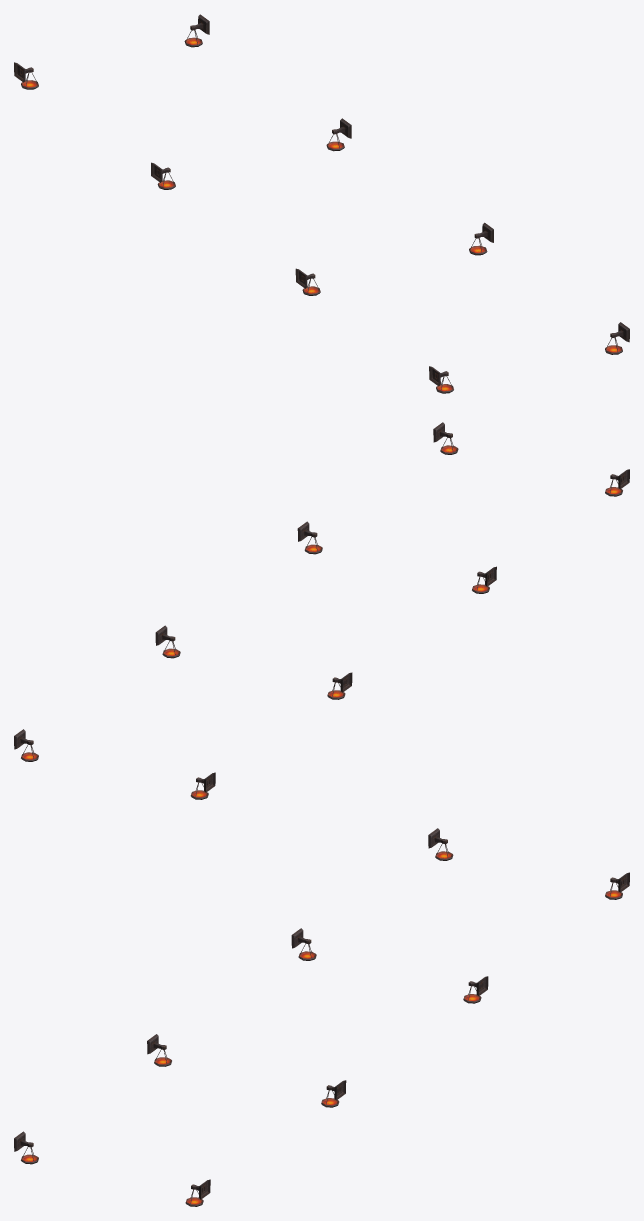
The model's file is wujian45.fbx.
The picture shows the model from 3 angles, top to bottom: view 1: azimuth 30°, elevation 25°; view 2: azimuth 150°, elevation 25°; view 3: azimuth 330°, elevation 25°; orthographic projection.
Parts seen in each view (by area): view 1: wujian45; view 2: wujian45; view 3: wujian45.
Boxes of the visible parts, <box> form: wujian45: <box>14,14,629,393</box>; wujian45: <box>14,422,629,799</box>; wujian45: <box>14,828,629,1206</box>.
Size of the model in its own units: 1295 by 156 by 5091.
1 material, 1 textured.
